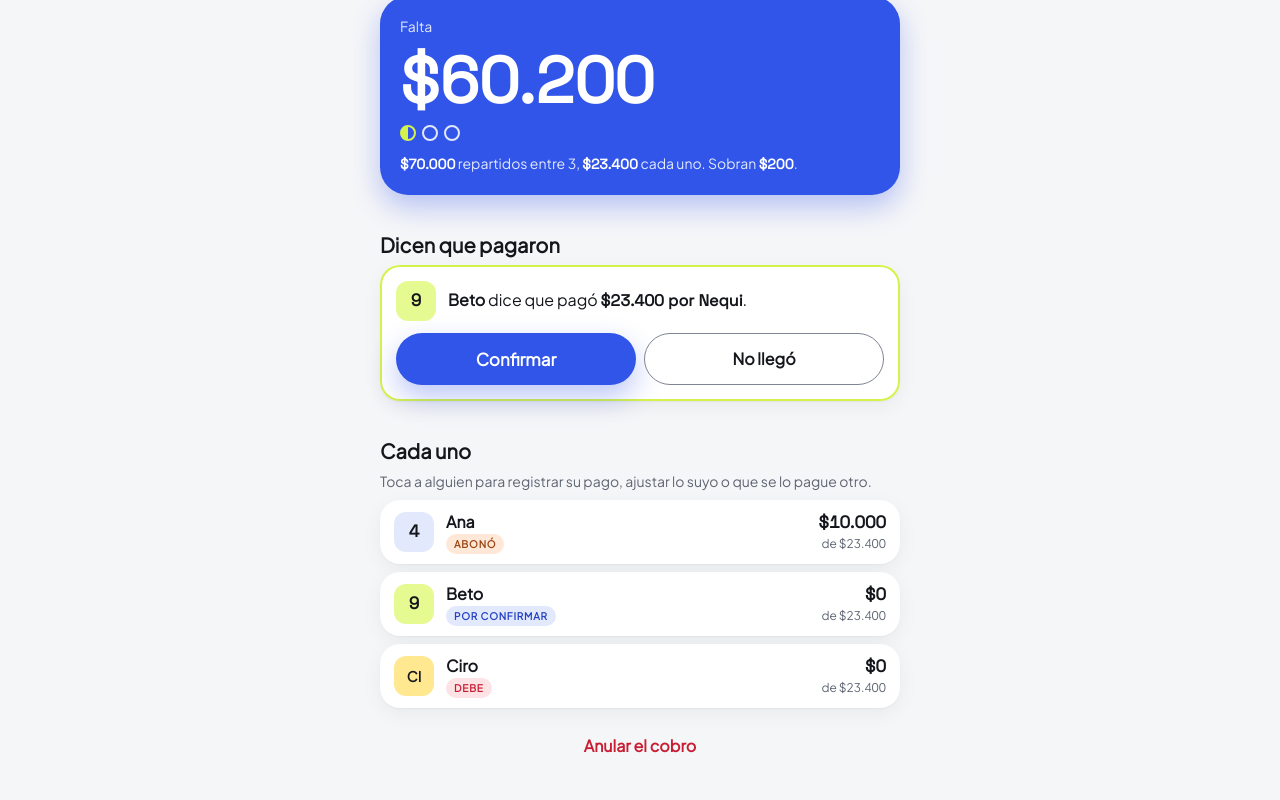
cobros en la app (06 Cobros) › patrocinio: la parte de Ciro la paga Beto; quién lo dice al reportar
(page scrolled)
Click the button with aria-label "Ciro: Debe" at (414, 676), box x1=380 y1=644 x2=900 y2=708
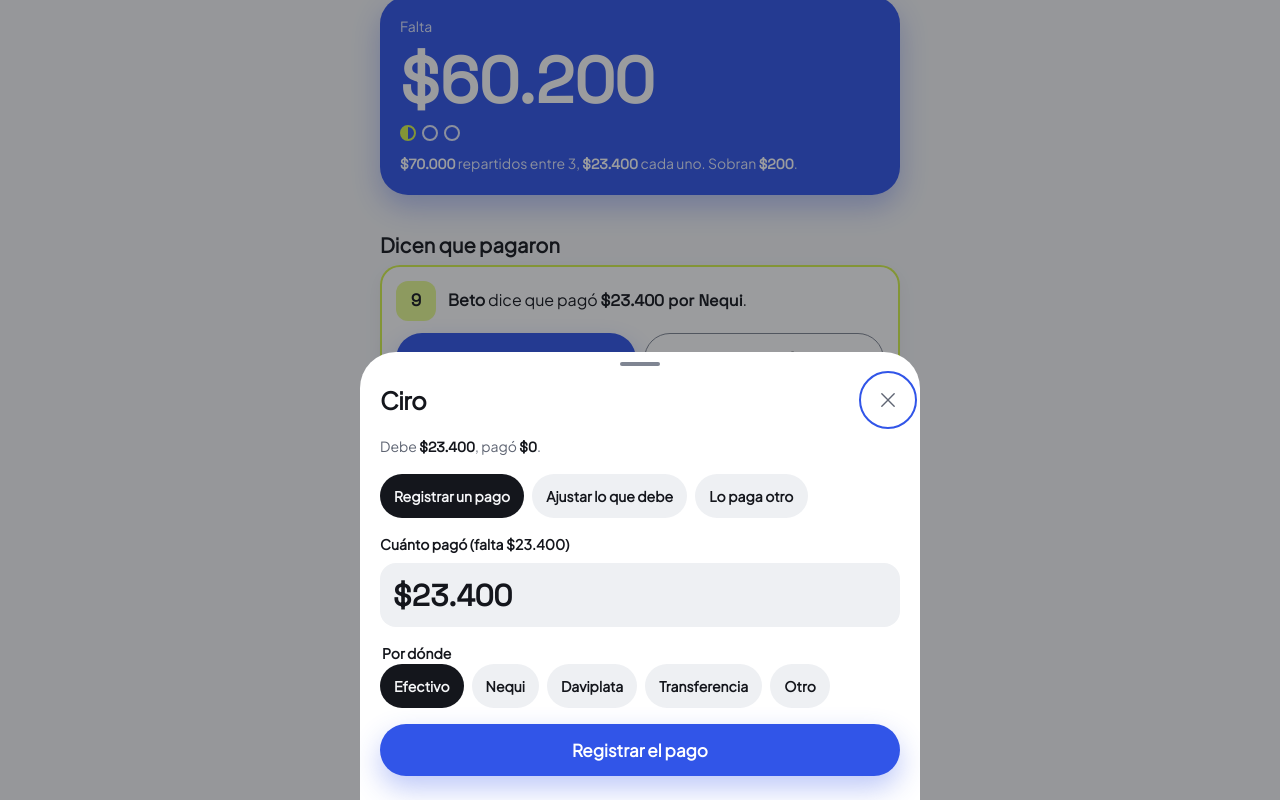
Click the button "Lo paga otro" at (751, 496), box x1=695 y1=474 x2=808 y2=518
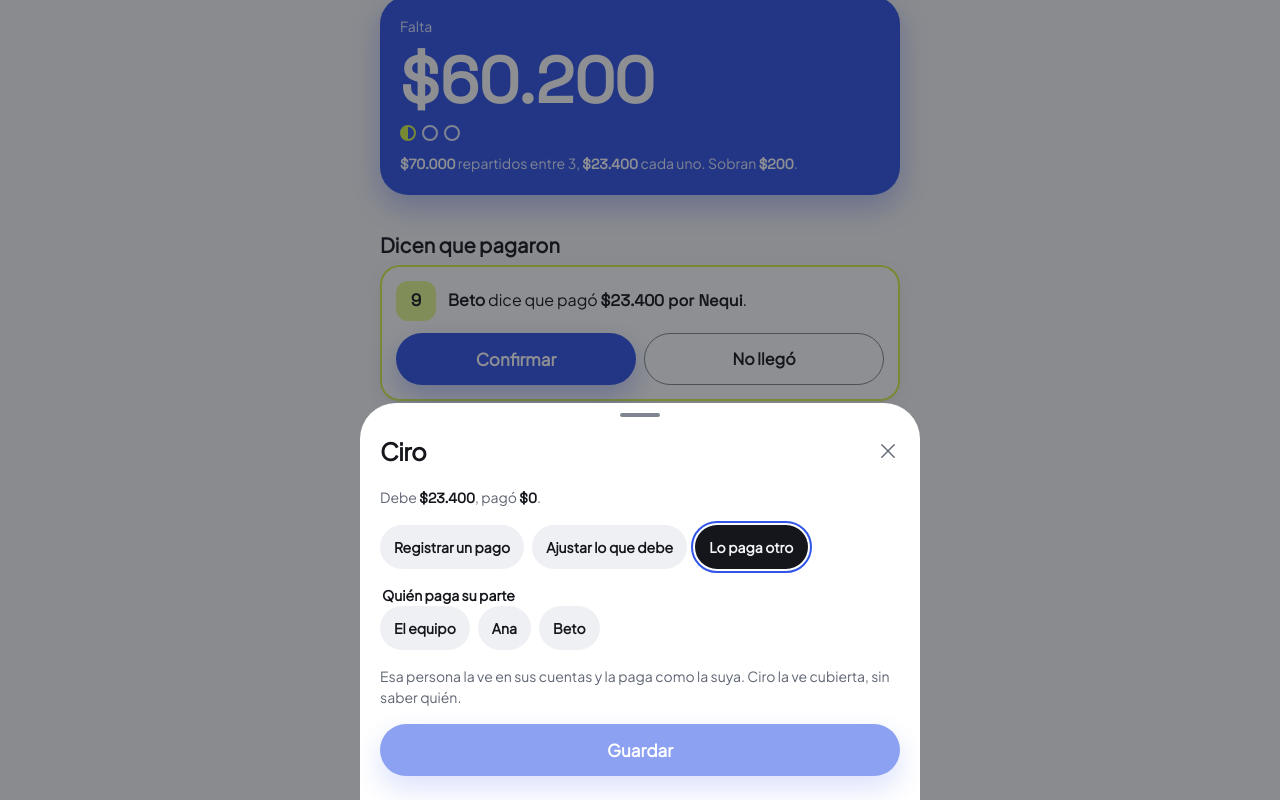
Expected: the buttons read "El equipo", "Ana", "Beto", in this order
Click the button "Beto" at (569, 628), box x1=539 y1=606 x2=600 y2=650
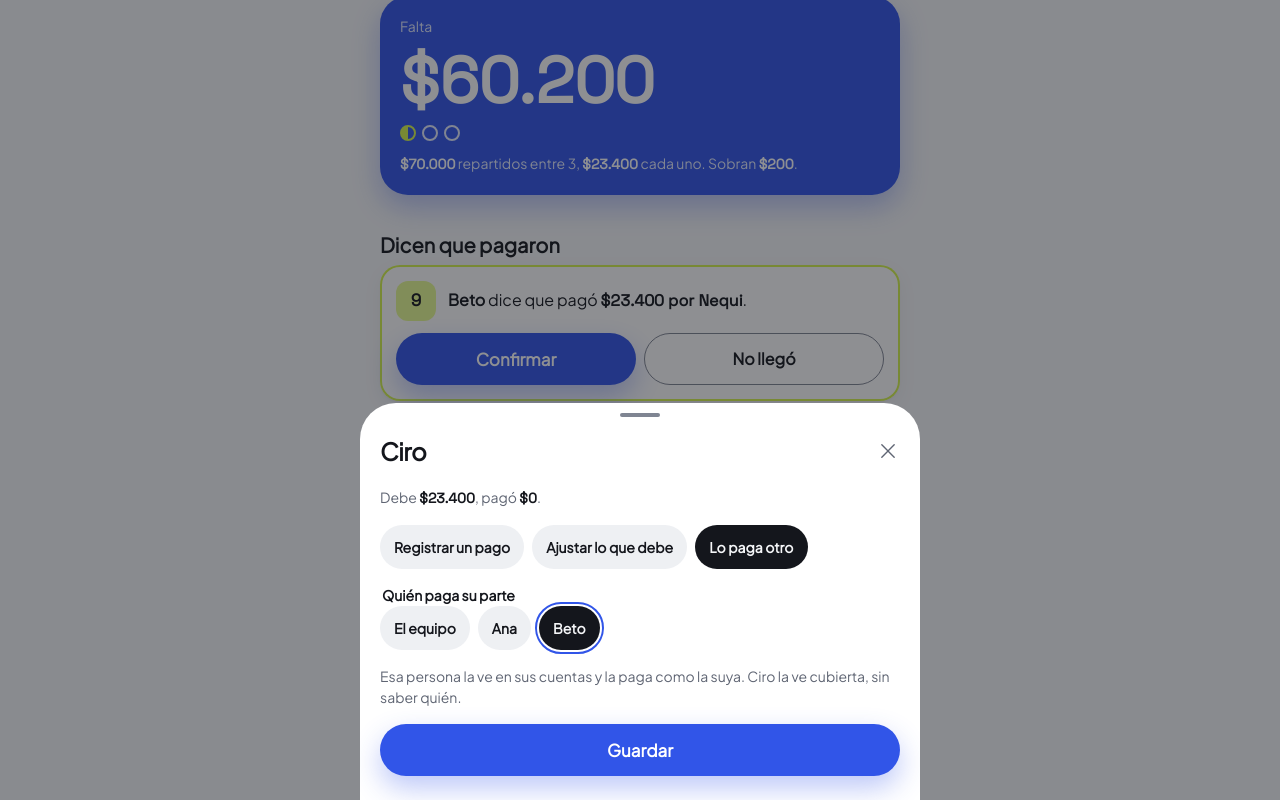
Expected: the text "Ciro la ve cubierta, sin saber quién" is shown, x1=380 y1=666 x2=900 y2=708
Click the button "Guardar" at (640, 750), box x1=380 y1=724 x2=900 y2=776
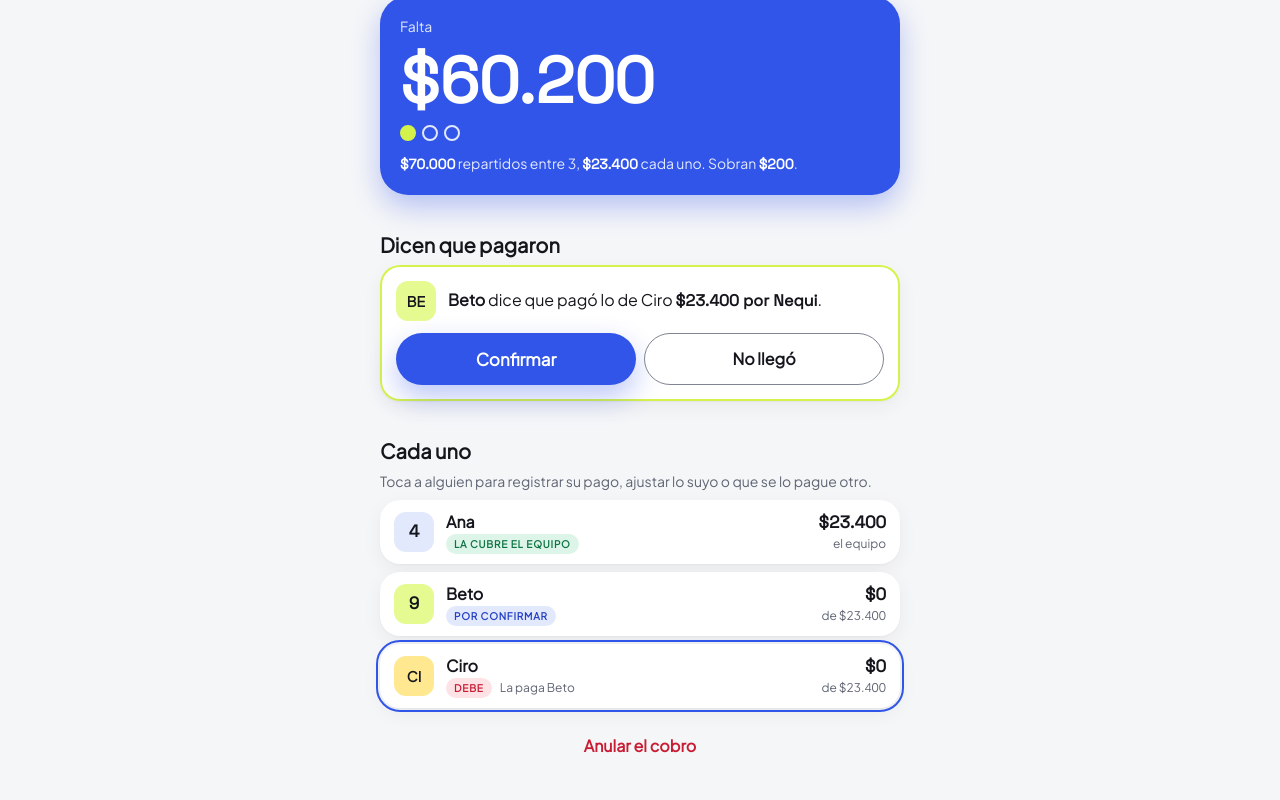
Expected: the button with aria-label "Ciro: Debe, la paga Beto" is shown, x1=380 y1=644 x2=900 y2=708
Expected: the button with aria-label "Ana: La cubre el equipo, $23.400" is shown, x1=380 y1=500 x2=900 y2=564
Expected: the text "Beto dice que pagó lo de Ciro $23.400 por Nequi." is shown, x1=448 y1=288 x2=822 y2=313
